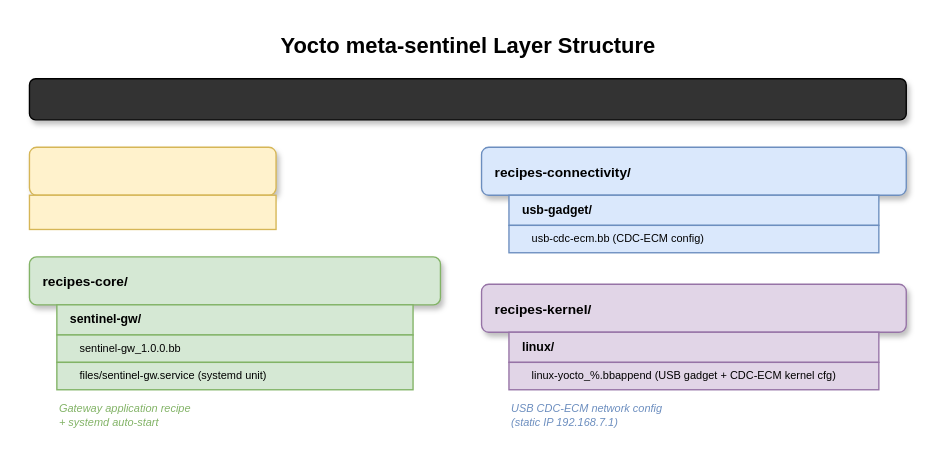
Some shapes in this 938 by 452 pixel diagram are drawn without their labels. Here are the shapes that lost their labels. From the top down, the centre of each, then its label:
the point at 468,100: meta-sentinel/
the point at 153,172: conf/
the point at 152,211: layer.conf
